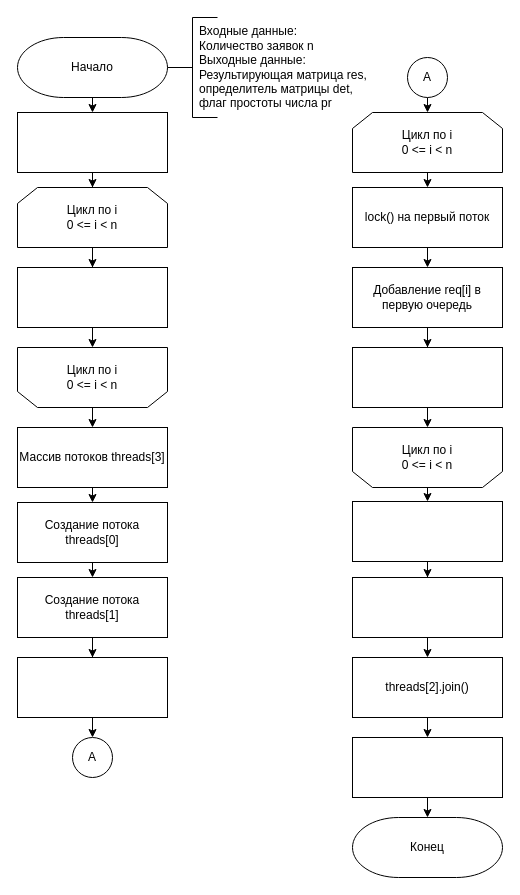
This 520x895 diagram has some shape labels left out. Here are the shapes that lost their labels. From the top down, the centre of each, then its label:
At point 92,142: "req = массив заявок, состоящих из размера матриц и двух матриц".
At point 92,297: "Инициализация req[i]".
At point 427,377: "unlock() на первый поток".
At point 427,531: "threads[0].join()".
At point 427,607: "threads[1].join()".
At point 92,687: "Создание потока threads[2]".
At point 427,767: "Логирование в файл".
